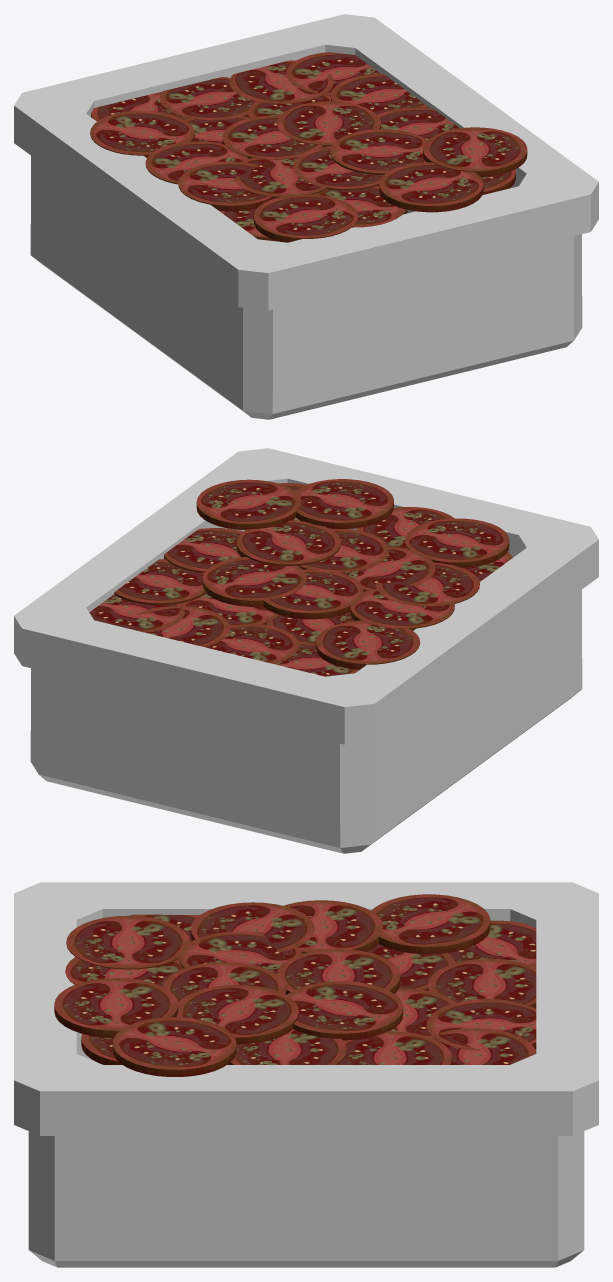
File: Tomato_Box.fbx
3 renders of one model, top to bottom at view 1: azimuth 30°, elevation 25°; view 2: azimuth 150°, elevation 25°; view 3: azimuth 270°, elevation 25°, orthographic. The views are drawn at different scales.
Parts seen in each view (by area): view 1: Cube.023; view 2: Cube.023; view 3: Cube.023.
Boxes of the visible parts, x1,y1,x2,y2 form: Cube.023: (14,14,598,419); Cube.023: (14,448,598,853); Cube.023: (14,882,598,1267).
Size of the model in its own units: 70.18 by 30.88 by 83.04.
